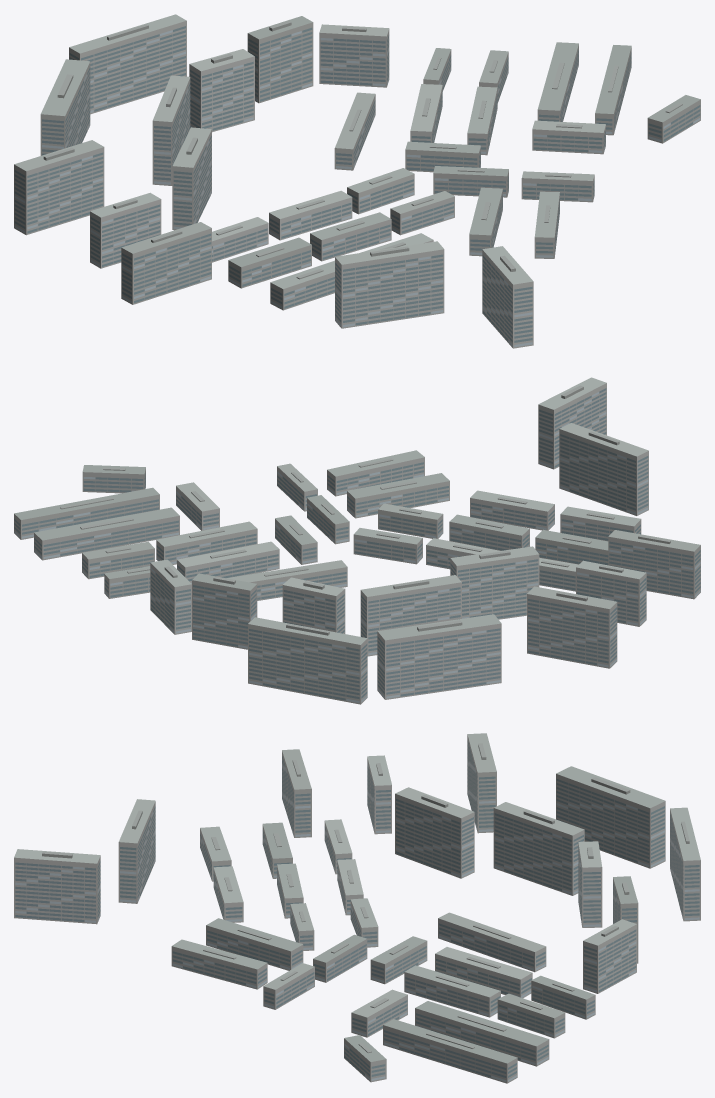
File: apt-a15875102.glb
3 renders of one model, top to bottom at view 1: azimuth 30°, elevation 25°; view 2: azimuth 150°, elevation 25°; view 3: azimuth 270°, elevation 25°, orthographic. The views are drawn at different scales.
Visible parts, largest first — view 1: apt-a15875102; view 2: apt-a15875102; view 3: apt-a15875102.
Part boxes in pixels (left/top/right/bottom): apt-a15875102: left=14, top=14, right=700, bottom=348; apt-a15875102: left=14, top=377, right=700, bottom=704; apt-a15875102: left=14, top=733, right=700, bottom=1083.
Size of the model in its own units: 470 by 47.81 by 471.
